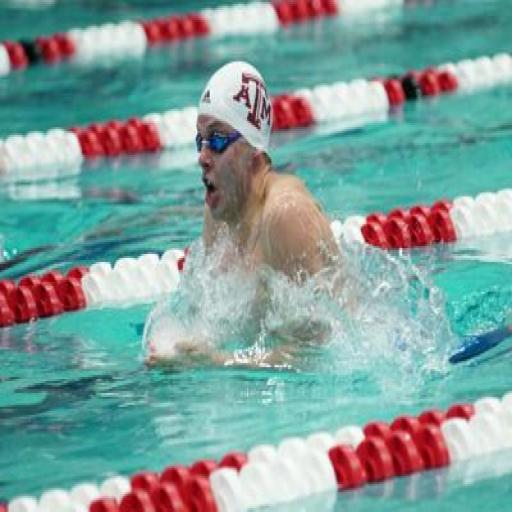swimming: (141, 58, 356, 375)
